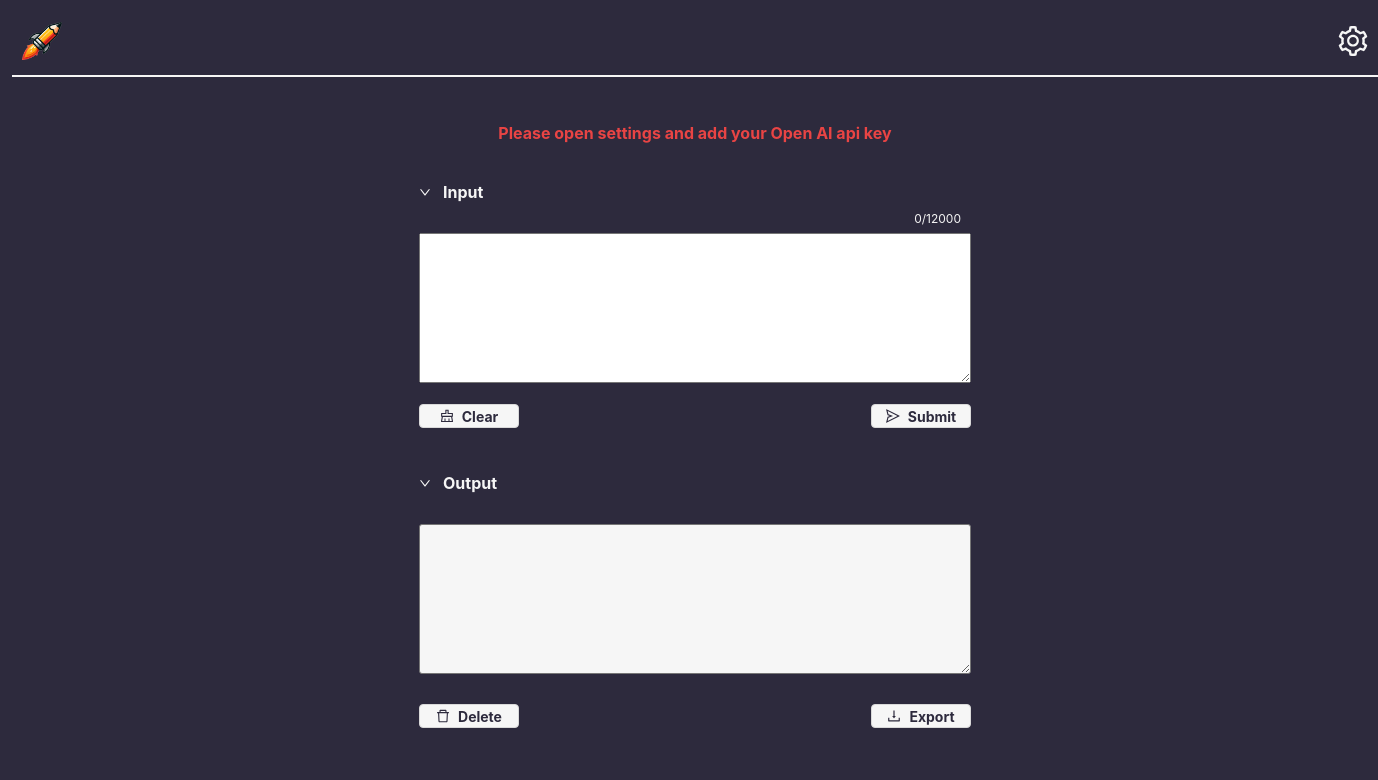
Test: App › clear input button clears inputs
The image size is (1378, 780).
In the text box with class "noteInput": (695, 308) [419,233,971,383], type "<p>Hello, World!</p>"
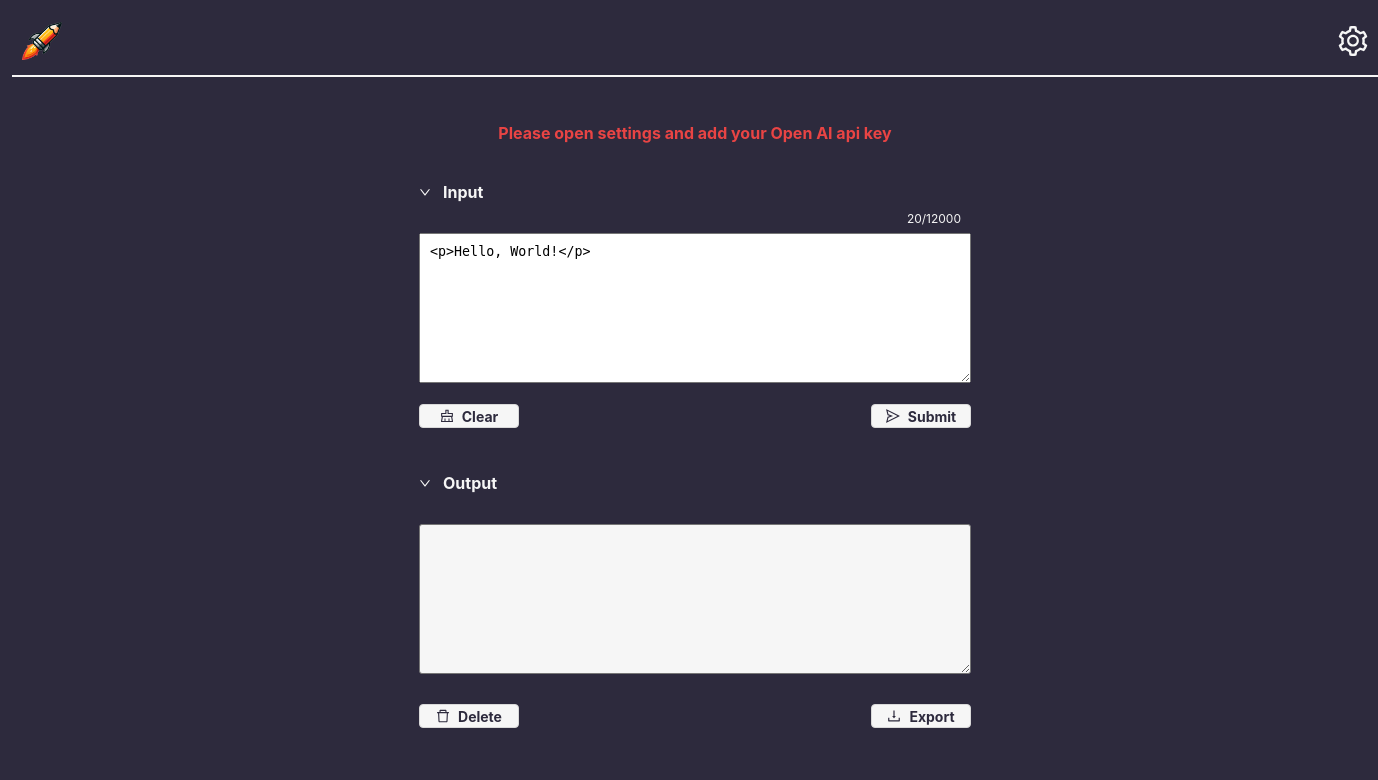
Click the button with class "clearBtn": (469, 416) [419,404,519,428]
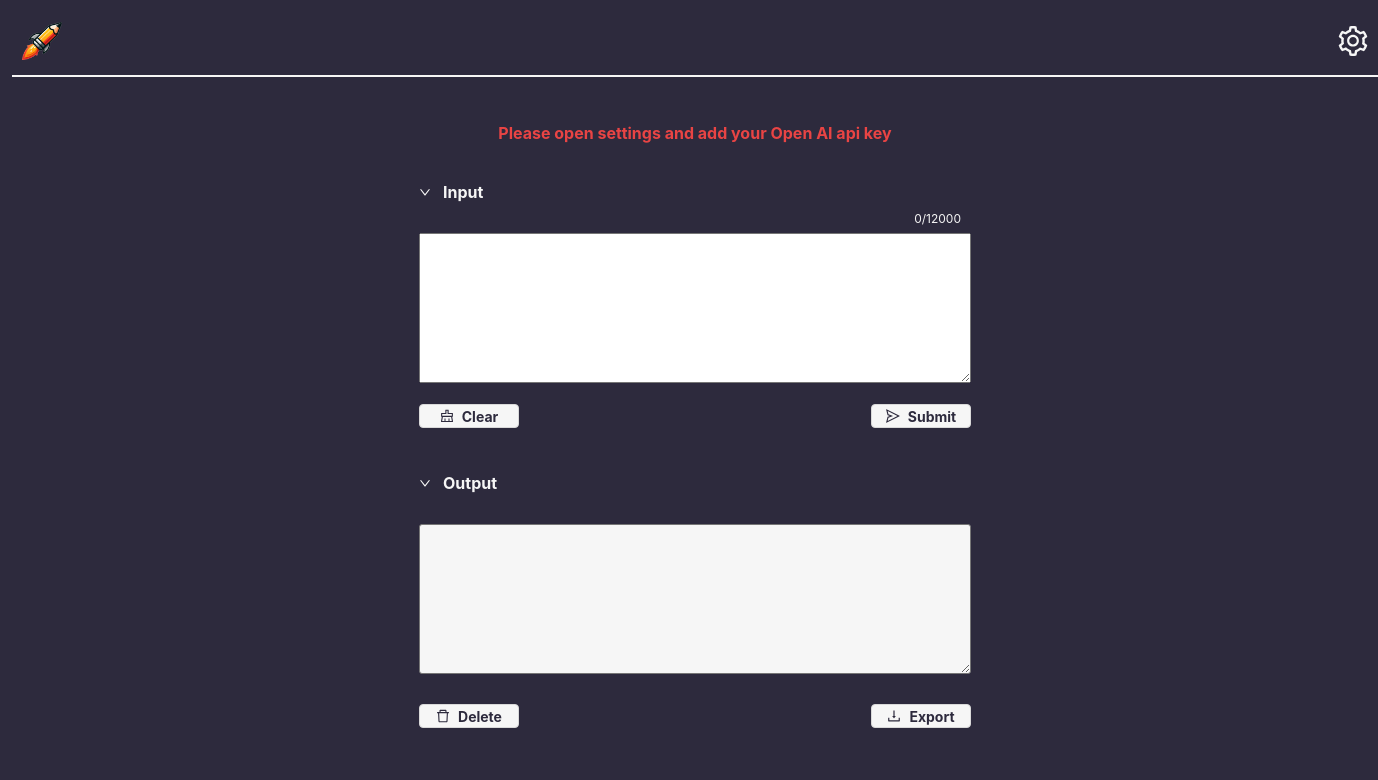
Now the text box with class "noteInput" is empty, box [419,233,971,383]
